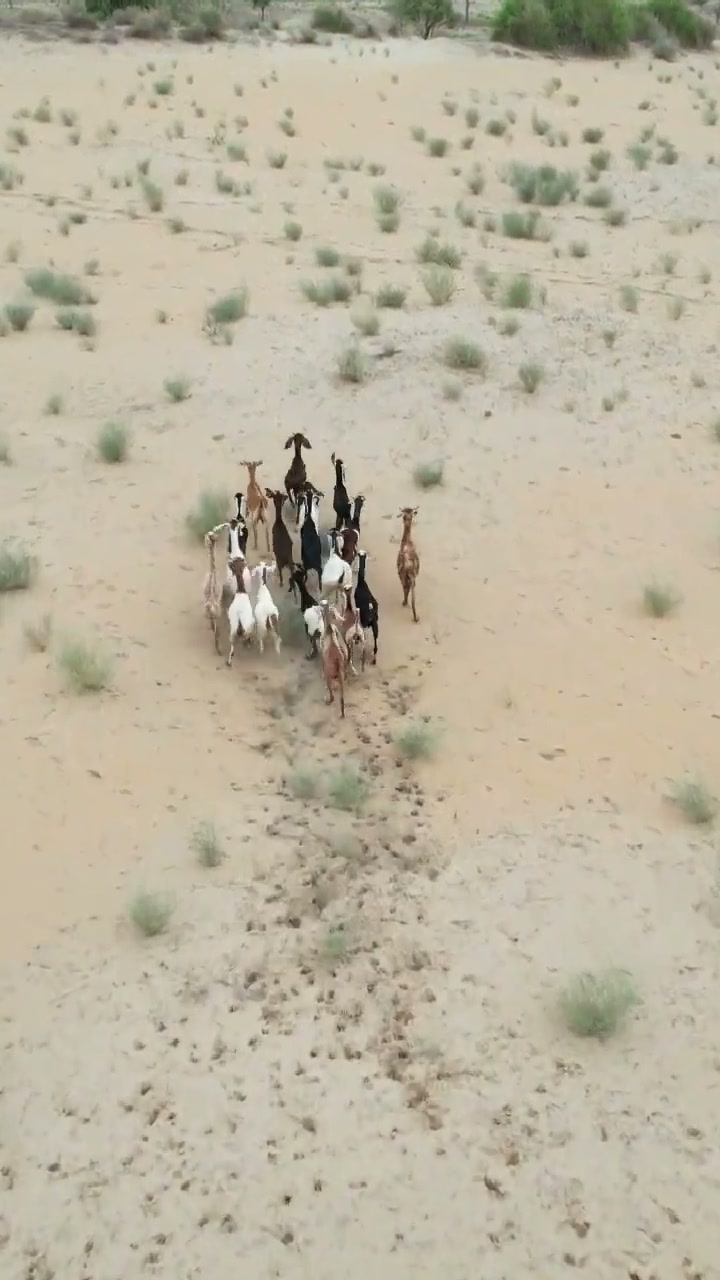animal_footprint: (0, 707, 719, 1277)
